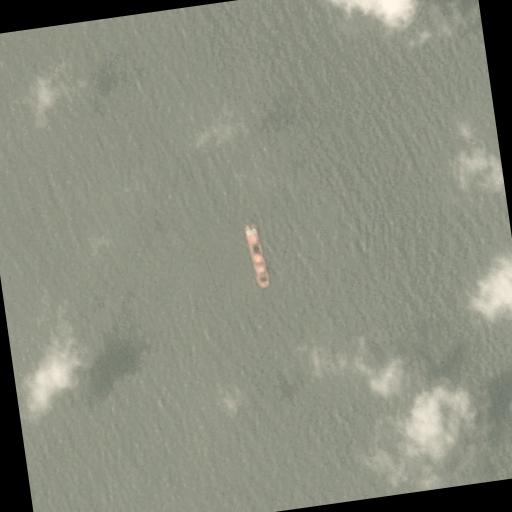ship: (335, 370, 492, 500), (317, 0, 440, 50), (0, 323, 24, 430), (240, 221, 272, 291), (284, 371, 411, 387), (210, 380, 245, 429), (38, 35, 55, 52)
